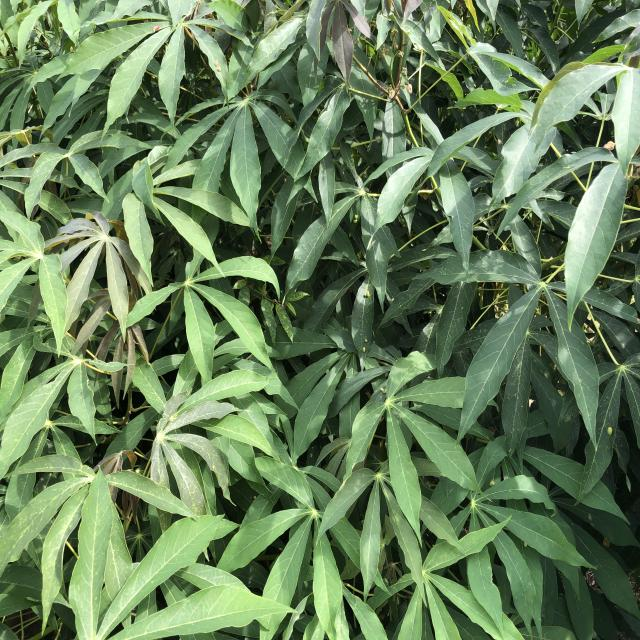Mosca: (357, 329, 373, 360), (209, 54, 229, 75), (598, 418, 620, 437), (484, 475, 505, 491), (143, 21, 164, 35), (364, 285, 374, 300)
